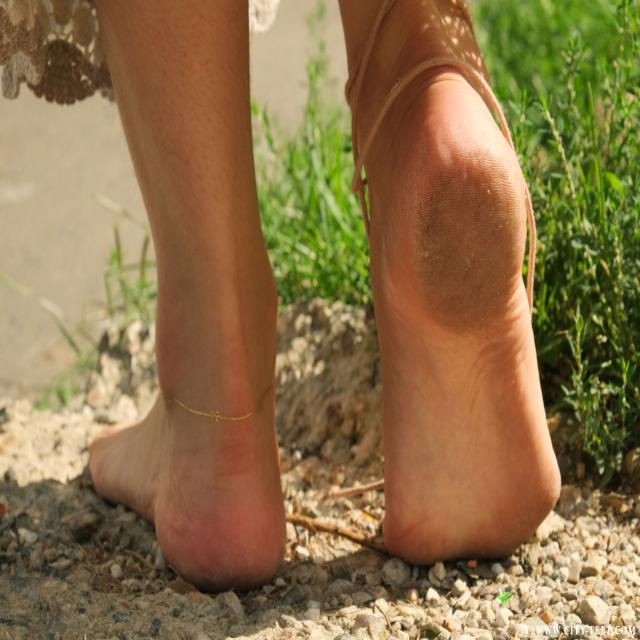Barefoots: (379, 80, 562, 562), (88, 366, 287, 589)
